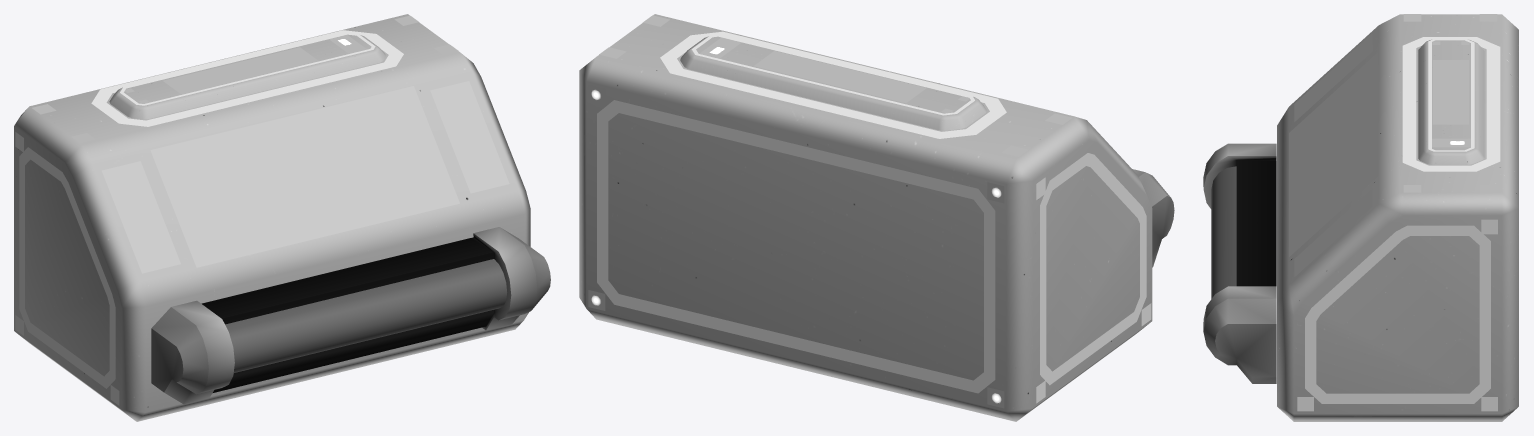
File: SM_Modular_Lamp_Merged.fbx
3 renders of one model, left to right at view 1: azimuth 30°, elevation 25°; view 2: azimuth 150°, elevation 25°; view 3: azimuth 270°, elevation 25°, orthographic. The views are drawn at different scales.
Parts seen in each view (by area): view 1: SM_Modular_Lamp_Merged_LOD0; view 2: SM_Modular_Lamp_Merged_LOD0; view 3: SM_Modular_Lamp_Merged_LOD0.
Boxes of the visible parts, bbox=[...] form: SM_Modular_Lamp_Merged_LOD0: bbox=[14, 14, 550, 421]; SM_Modular_Lamp_Merged_LOD0: bbox=[579, 14, 1174, 421]; SM_Modular_Lamp_Merged_LOD0: bbox=[1203, 14, 1518, 421].
Size of the model in its own units: 86.25 by 59.49 by 49.61.
